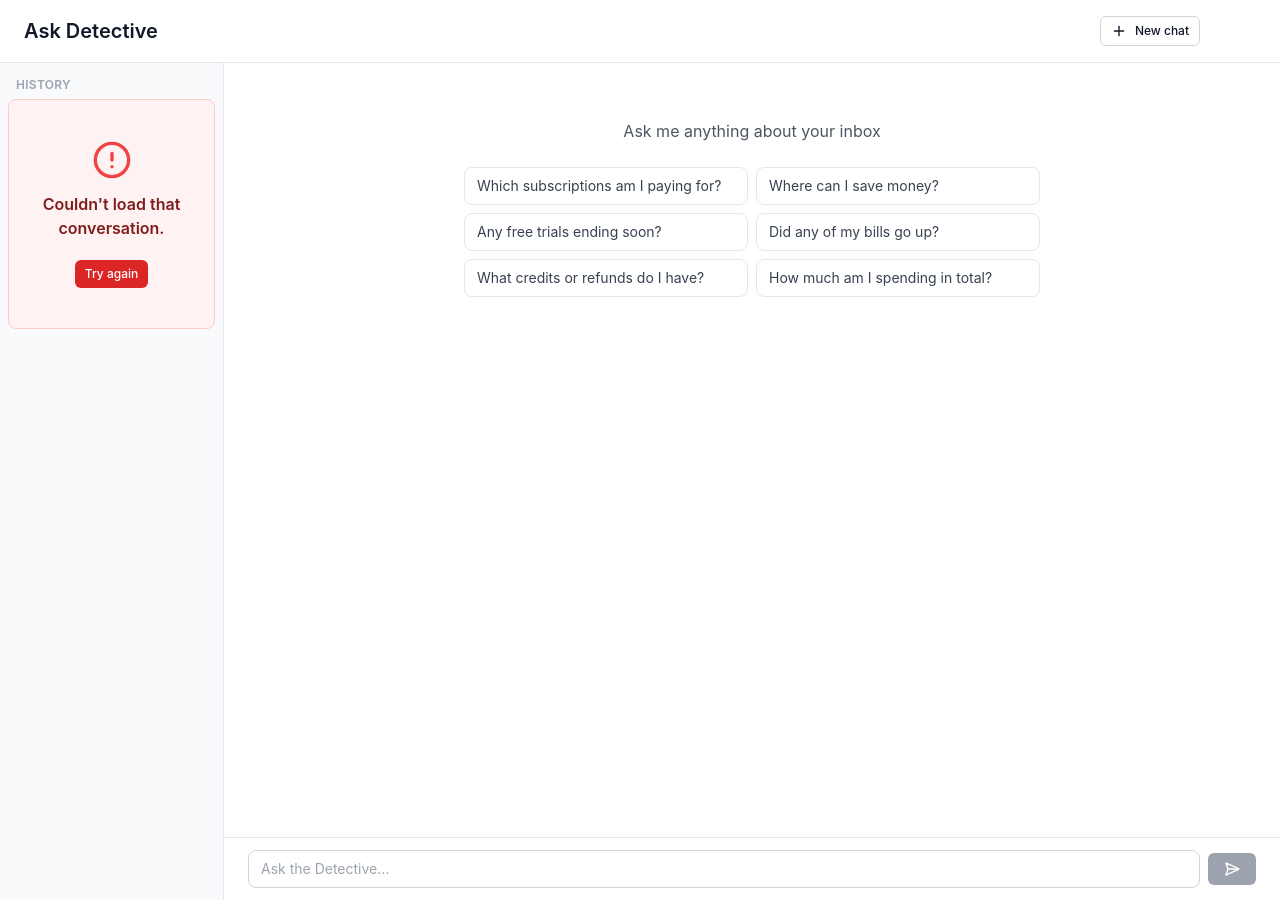
Test case: ChatPage — empty state › fills the input when a suggestion is clicked (does not send)
Click the button with test id "chat-suggestion" at (606, 186), box [464,167,748,205]
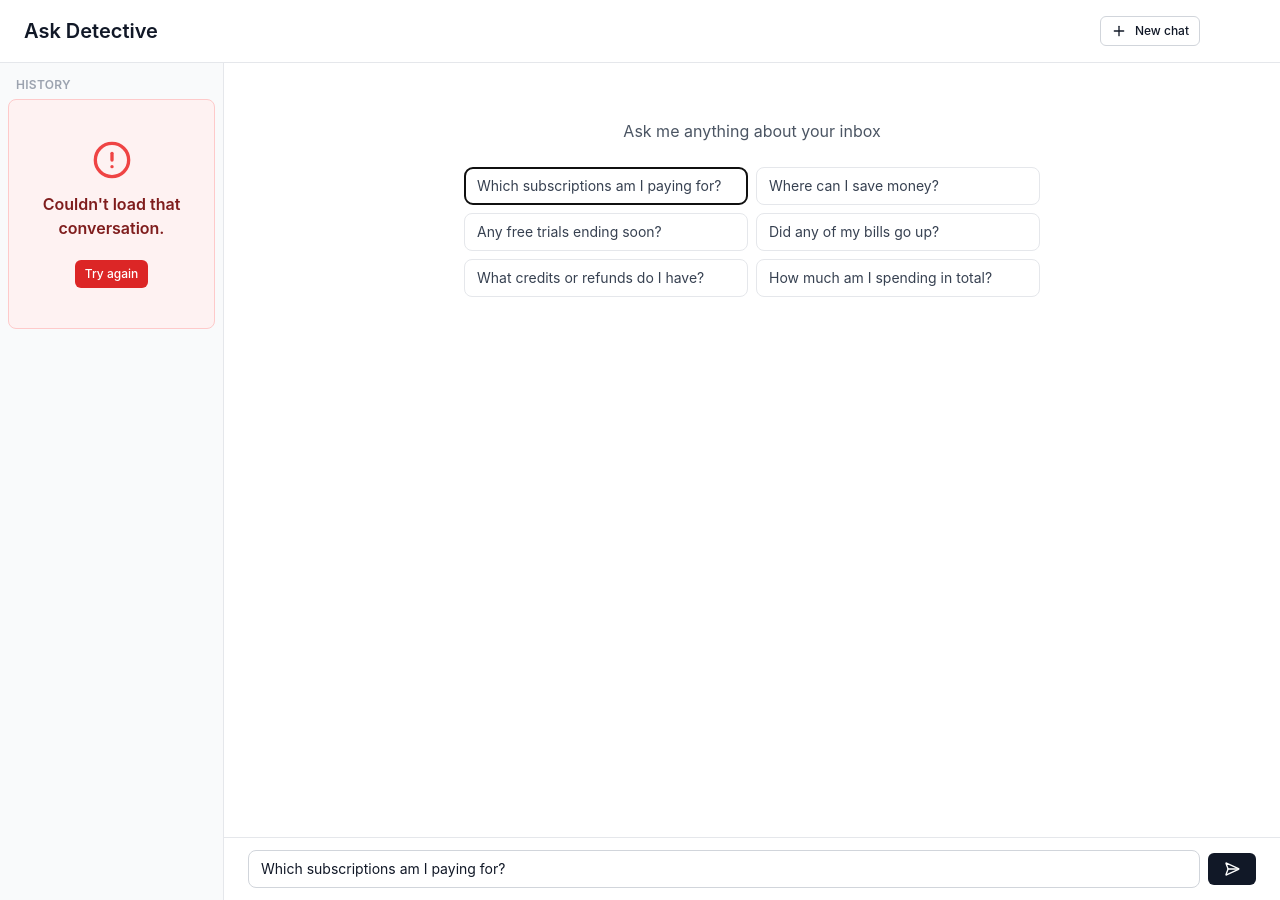
Expected: the field with test id "chat-input" holds "Which subscriptions am I paying for?", [248,850,1200,888]
